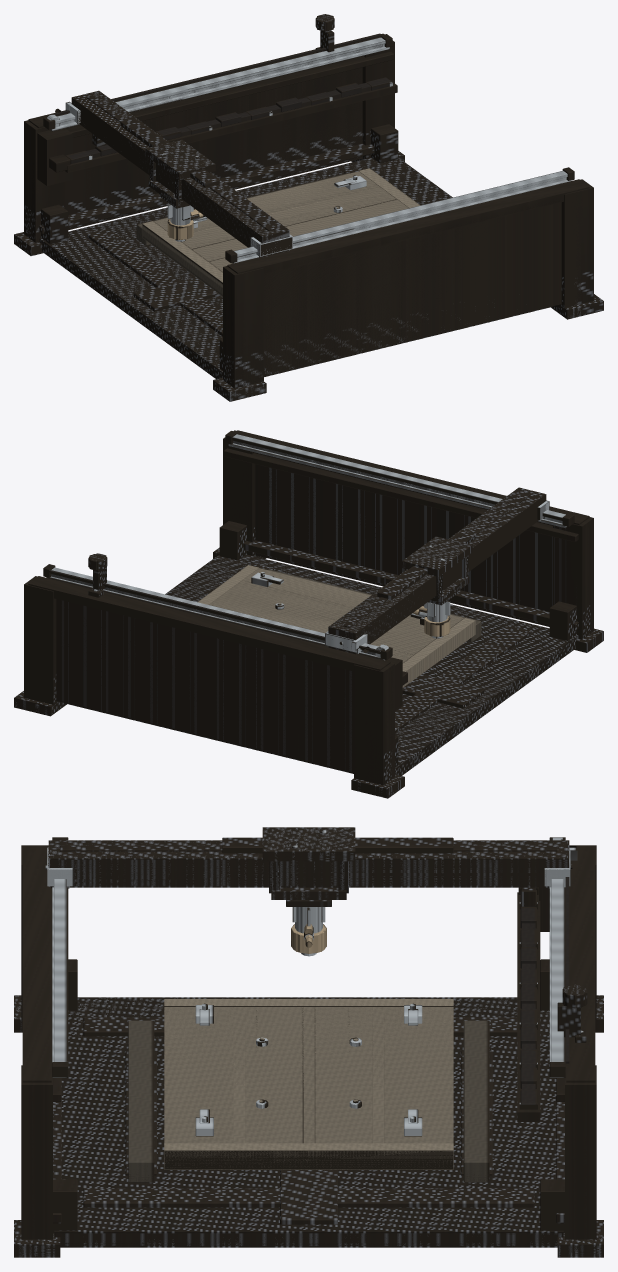
The model's file is place_works_fabricator.glb.
The picture shows the model from 3 angles, top to bottom: view 1: azimuth 30°, elevation 25°; view 2: azimuth 150°, elevation 25°; view 3: azimuth 270°, elevation 25°; orthographic projection. The views are drawn at different scales.
Visible parts, largest first — view 1: LOD0_fabricator, LOD1_fabricator, LOD0_Gantry, LOD1_Gantry, LOD0_Lamp; view 2: LOD0_fabricator, LOD1_fabricator, LOD0_Gantry, LOD1_Gantry, LOD2_fabricator, LOD0_Lamp; view 3: LOD1_fabricator, LOD0_fabricator, LOD0_Gantry, LOD1_Gantry, LOD2_fabricator, LOD0_Lamp.
Boxes of the visible parts, x1,y1,x2,y2 form: LOD0_fabricator: [14, 34, 603, 400]; LOD1_fabricator: [14, 33, 603, 401]; LOD0_Gantry: [65, 91, 292, 257]; LOD1_Gantry: [68, 90, 292, 257]; LOD0_Lamp: [315, 14, 334, 52]; LOD0_fabricator: [14, 431, 597, 797]; LOD1_fabricator: [14, 430, 603, 798]; LOD0_Gantry: [325, 488, 549, 653]; LOD1_Gantry: [325, 487, 549, 654]; LOD2_fabricator: [211, 587, 463, 662]; LOD0_Lamp: [88, 553, 107, 597]; LOD1_fabricator: [14, 845, 603, 1257]; LOD0_fabricator: [15, 837, 602, 1256]; LOD0_Gantry: [45, 827, 577, 956]; LOD1_Gantry: [47, 827, 570, 953]; LOD2_fabricator: [164, 1007, 453, 1143]; LOD0_Lamp: [557, 985, 587, 1042].
Size of the model in its own units: 2.04 by 0.835 by 2.04.
Materials: 3 (3 with a texture image).
